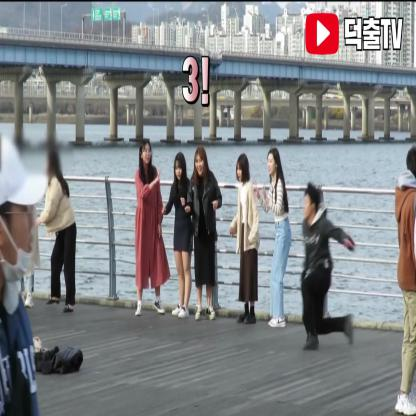Fall_Down: (298, 181, 359, 356)
